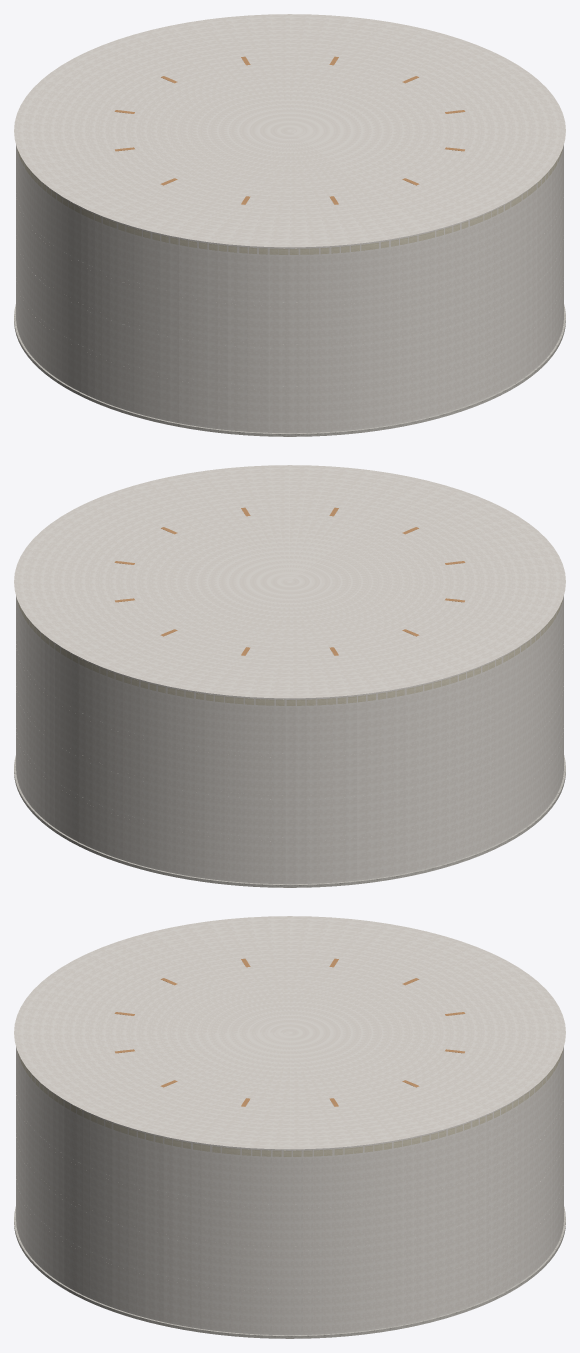
Rendered from trading-hall-v5.glb.
The picture shows the model from 3 angles, top to bottom: view 1: azimuth 30°, elevation 25°; view 2: azimuth 150°, elevation 25°; view 3: azimuth 270°, elevation 25°; orthographic projection.
Visible parts, largest first — view 1: shell; view 2: shell; view 3: shell.
Part boxes in pixels (<box>): shell: <box>14,14,565,436</box>; shell: <box>14,465,565,887</box>; shell: <box>14,916,565,1338</box>.
Size of the model in its own units: 53.6 by 20.39 by 53.6.
52 materials, 35 textured.
